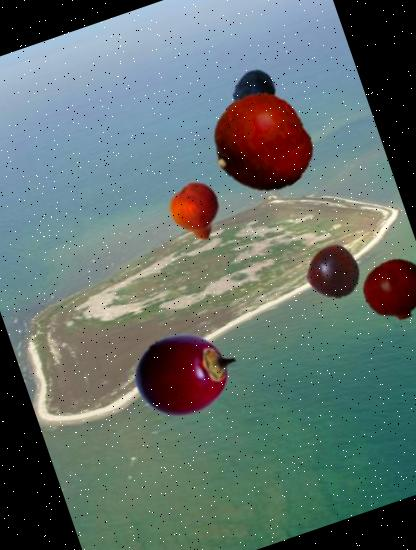Blueberry: (216, 60, 292, 136)
Chestnut: (298, 236, 368, 306)
Nectarine: (198, 80, 326, 208)
Pear: (160, 174, 236, 250)
Pomegranate: (355, 249, 416, 330)
Tamarillo: (121, 308, 248, 436)
